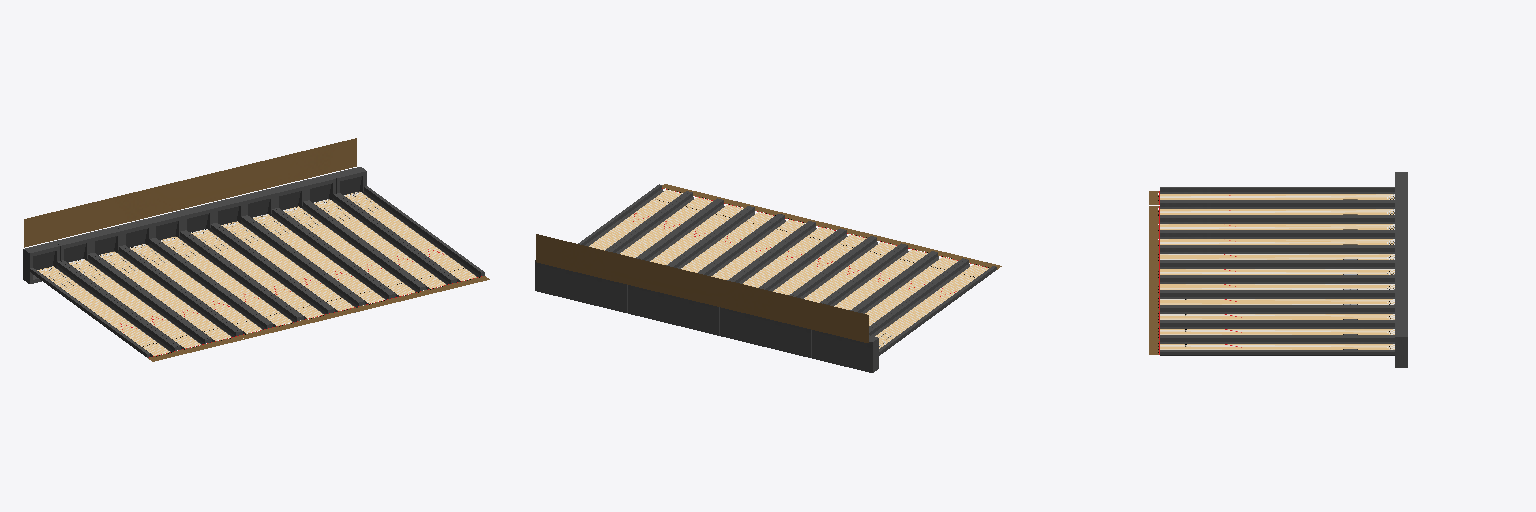
The picture shows the model from 3 angles: view 1: azimuth 30°, elevation 25°; view 2: azimuth 150°, elevation 25°; view 3: azimuth 270°, elevation 25°; orthographic projection.
Visible parts, largest first — view 1: Plane.002; view 2: Plane.002; view 3: Plane.002.
Part boxes in pixels (x1,y1,x2,y2): Plane.002: (23,138,489,361); Plane.002: (535,184,1001,372); Plane.002: (1149,172,1407,367).
Size of the model in its own units: 196 by 32.68 by 132.
Materials: 2 (1 with a texture image).